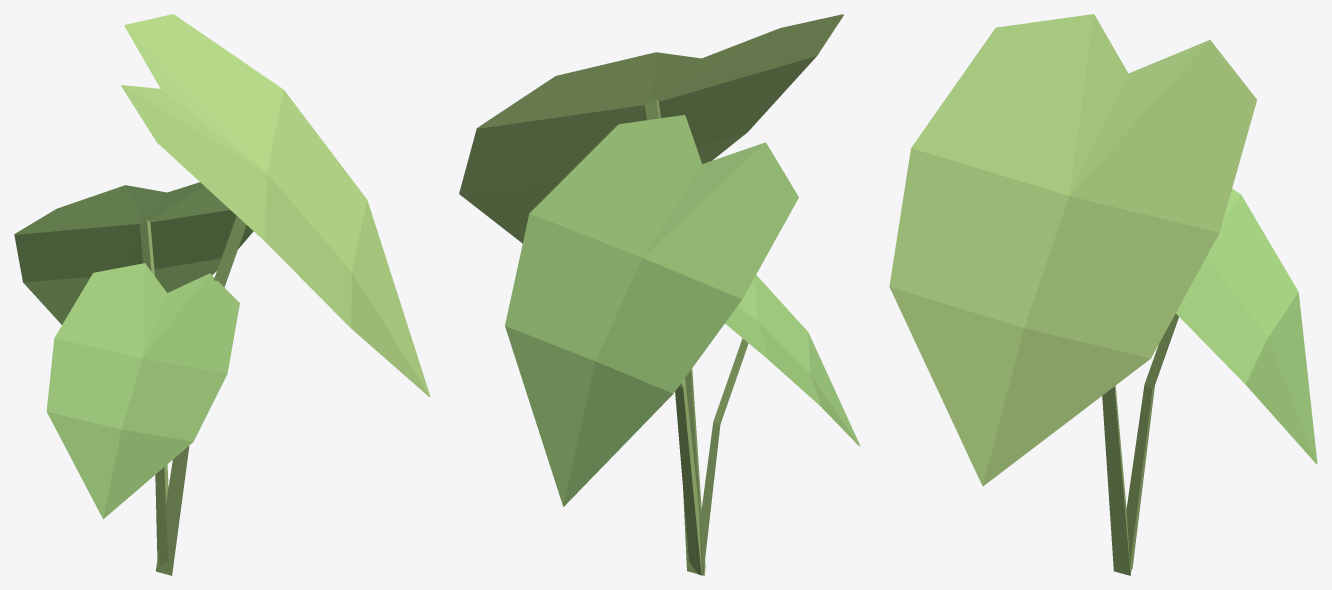
File: Plant_d_TwoS_05.fbx
The picture shows the model from 3 angles, left to right: view 1: azimuth 30°, elevation 25°; view 2: azimuth 150°, elevation 25°; view 3: azimuth 270°, elevation 25°; orthographic projection. The views are drawn at different scales.
Visible parts, largest first — view 1: Plant_d_TwoS_05; view 2: Plant_d_TwoS_05; view 3: Plant_d_TwoS_05.
Boxes of the visible parts, box(x1,y1,x2,y2) form: Plant_d_TwoS_05: box(14, 14, 430, 575); Plant_d_TwoS_05: box(459, 14, 860, 575); Plant_d_TwoS_05: box(889, 14, 1317, 575).
Size of the model in its own units: 0.4525 by 0.6777 by 0.495.
